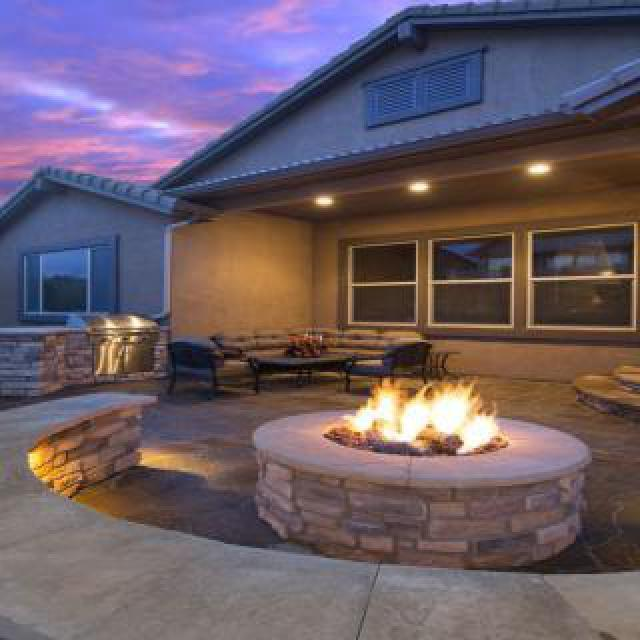Fire: (324, 372, 502, 466)
